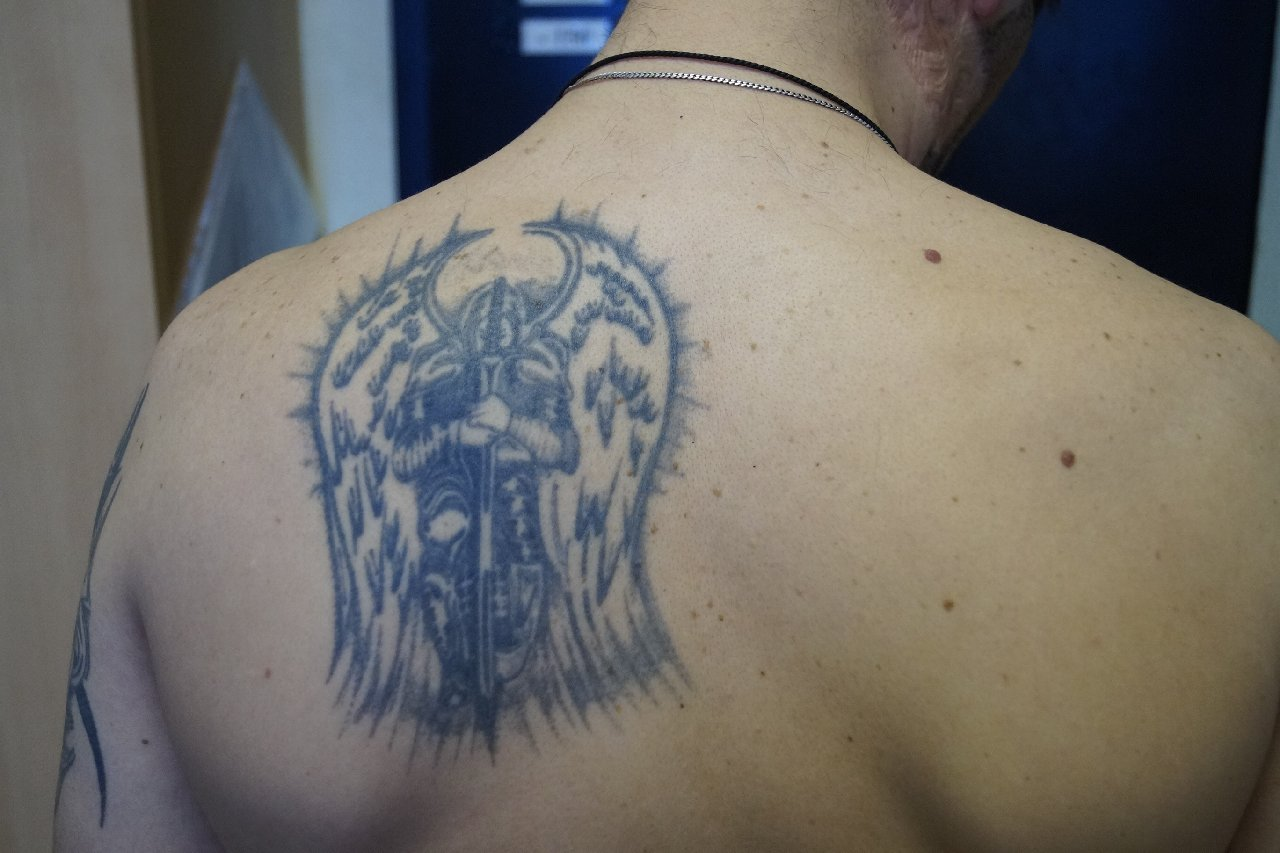tatu1_angel: (294, 214, 687, 707)
